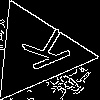K: (11, 27, 73, 77)
